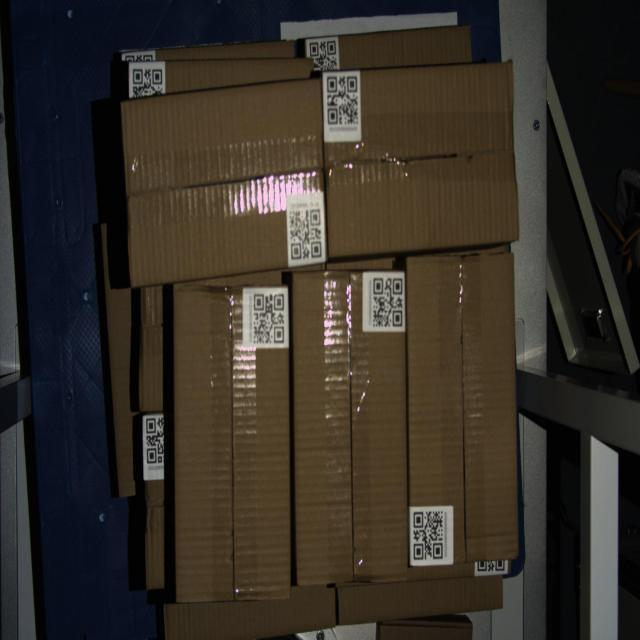box: (121, 79, 328, 288), (321, 62, 519, 258), (174, 285, 290, 603), (293, 269, 408, 586), (406, 252, 518, 568)
